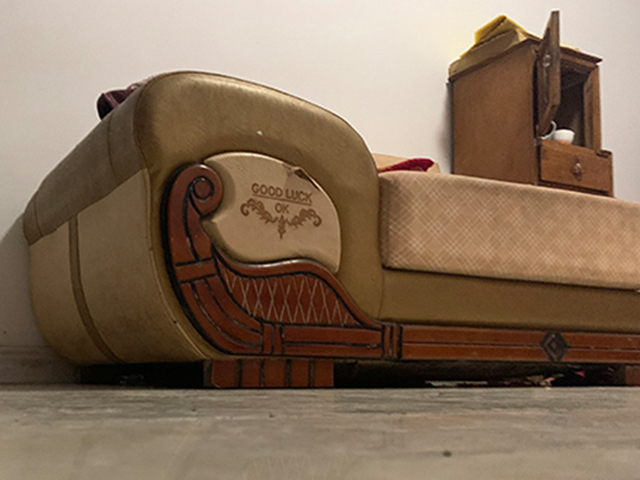sofa: (21, 68, 640, 391)
